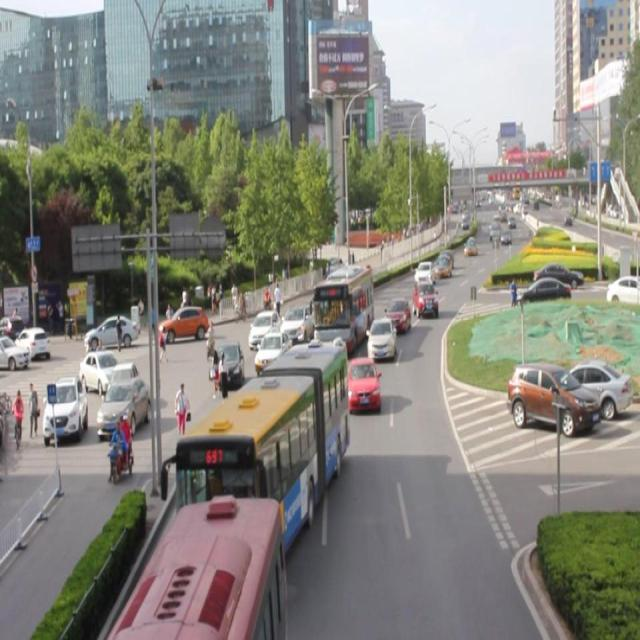car: (253, 363, 297, 423), (346, 355, 380, 414), (211, 337, 245, 392), (254, 330, 294, 373), (248, 308, 281, 351), (280, 303, 313, 346), (366, 316, 396, 362), (384, 298, 410, 334), (412, 281, 437, 318), (414, 260, 434, 290)
van: (177, 343, 346, 544), (134, 499, 285, 640), (312, 266, 372, 347)
